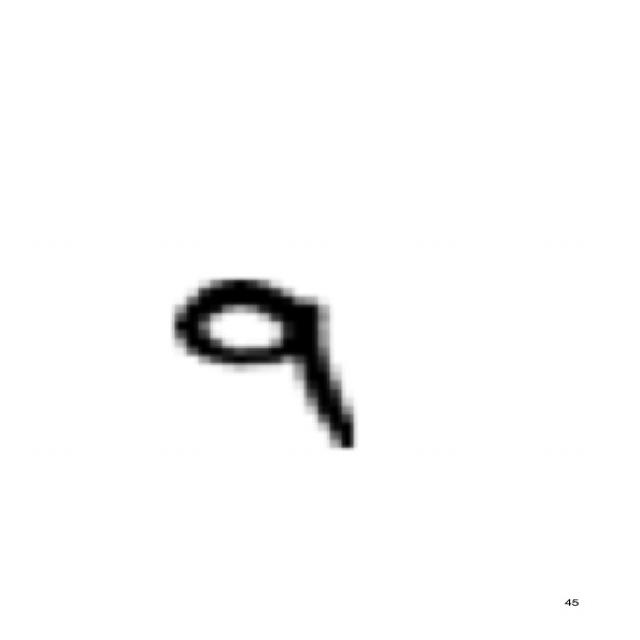9 -nine-: (148, 260, 367, 462)
